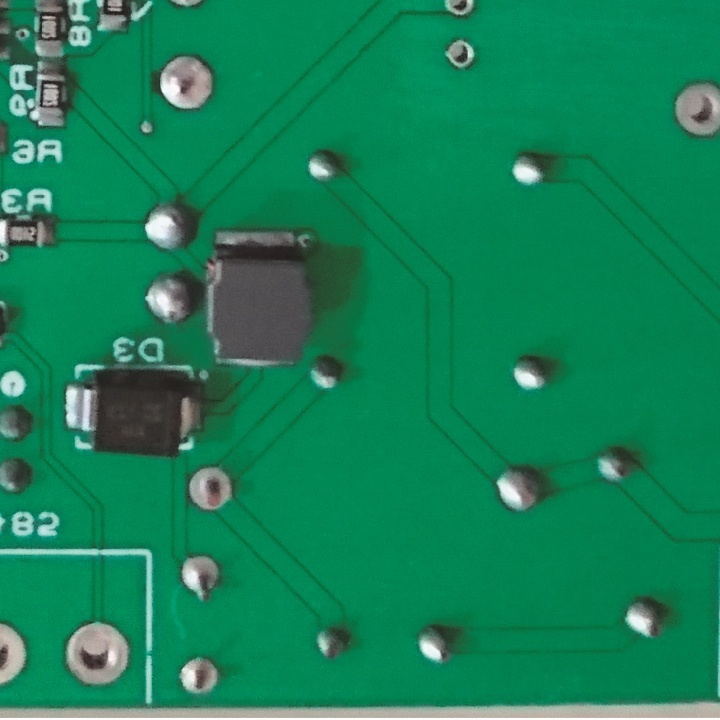F: (60, 619, 133, 689), (157, 52, 219, 114), (670, 79, 720, 140), (185, 463, 233, 518), (178, 552, 219, 607), (178, 652, 221, 703), (440, 36, 479, 72), (442, 1, 482, 23)
